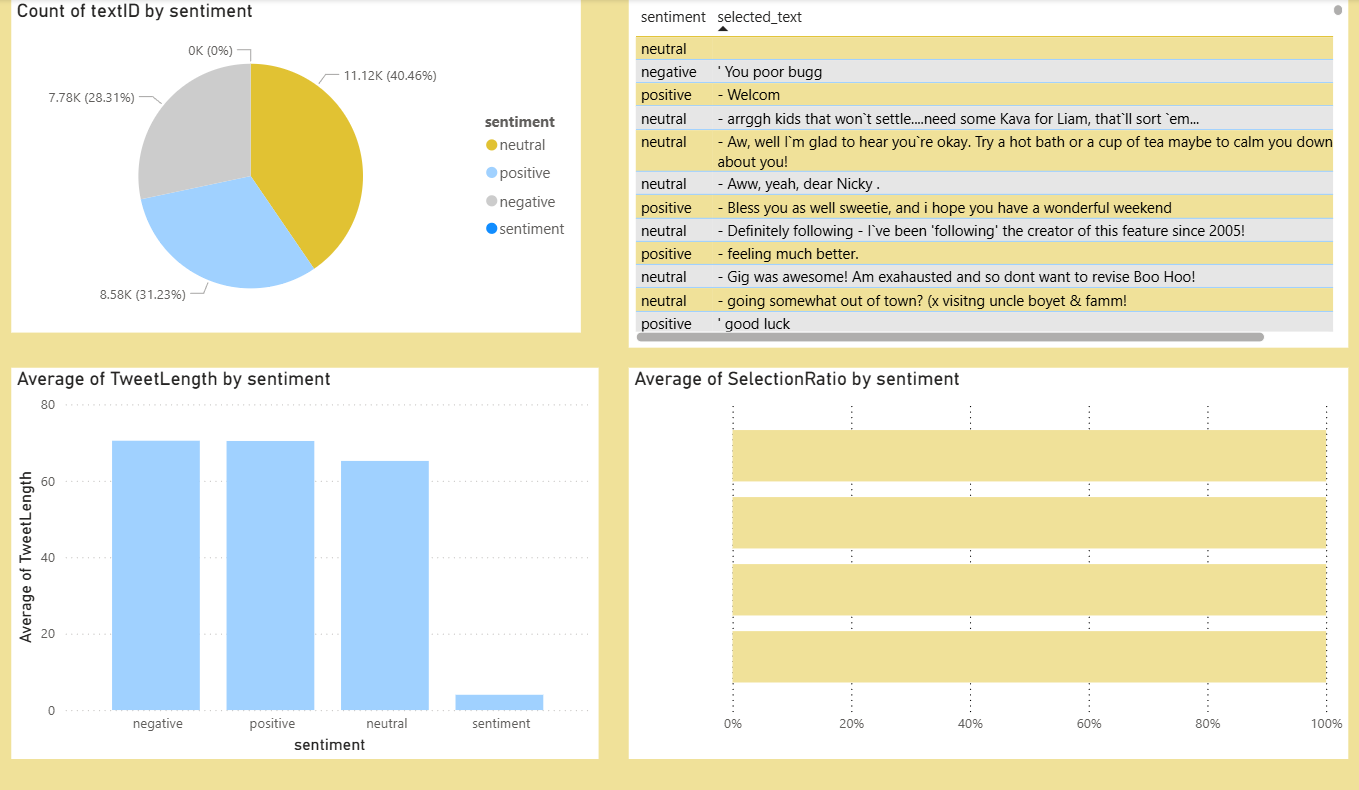

The page's visual inventory and layout, read from the dashboard file:
{"tool":"powerbi","page":{"name":"Page 1","canvas":[1280,720],"ordinal":0},"visuals":[{"type":"pieChart","fields":{"Category":["train.Column4"],"Y":["train.Column1"]},"box":[9.6,0,513.2,300.5],"z":0},{"type":"columnChart","fields":{"Category":["train.Column4"],"Y":["train.TweetLength"]},"box":[9.6,332.1,529.7,352.7],"z":1},{"type":"tableEx","fields":{"Values":["train.Column4","train.Column3"]},"box":[566.7,0,649.1,314.2],"z":2},{"type":"hundredPercentStackedBarChart","fields":{"Category":["train.sentiment"],"Y":["train.SelectionRatio"]},"box":[567,332,649,353],"z":3}]}

Visuals, with their boxes in screenshot pixels (x1, y1, x2, y2):
pieChart - train.Column4 x train.Column1: 21/11/578/337
columnChart - train.Column4 x train.TweetLength: 21/371/596/754
tableEx - train.Column4 x train.Column3: 626/11/1330/352
hundredPercentStackedBarChart - train.sentiment x train.SelectionRatio: 626/371/1331/754
